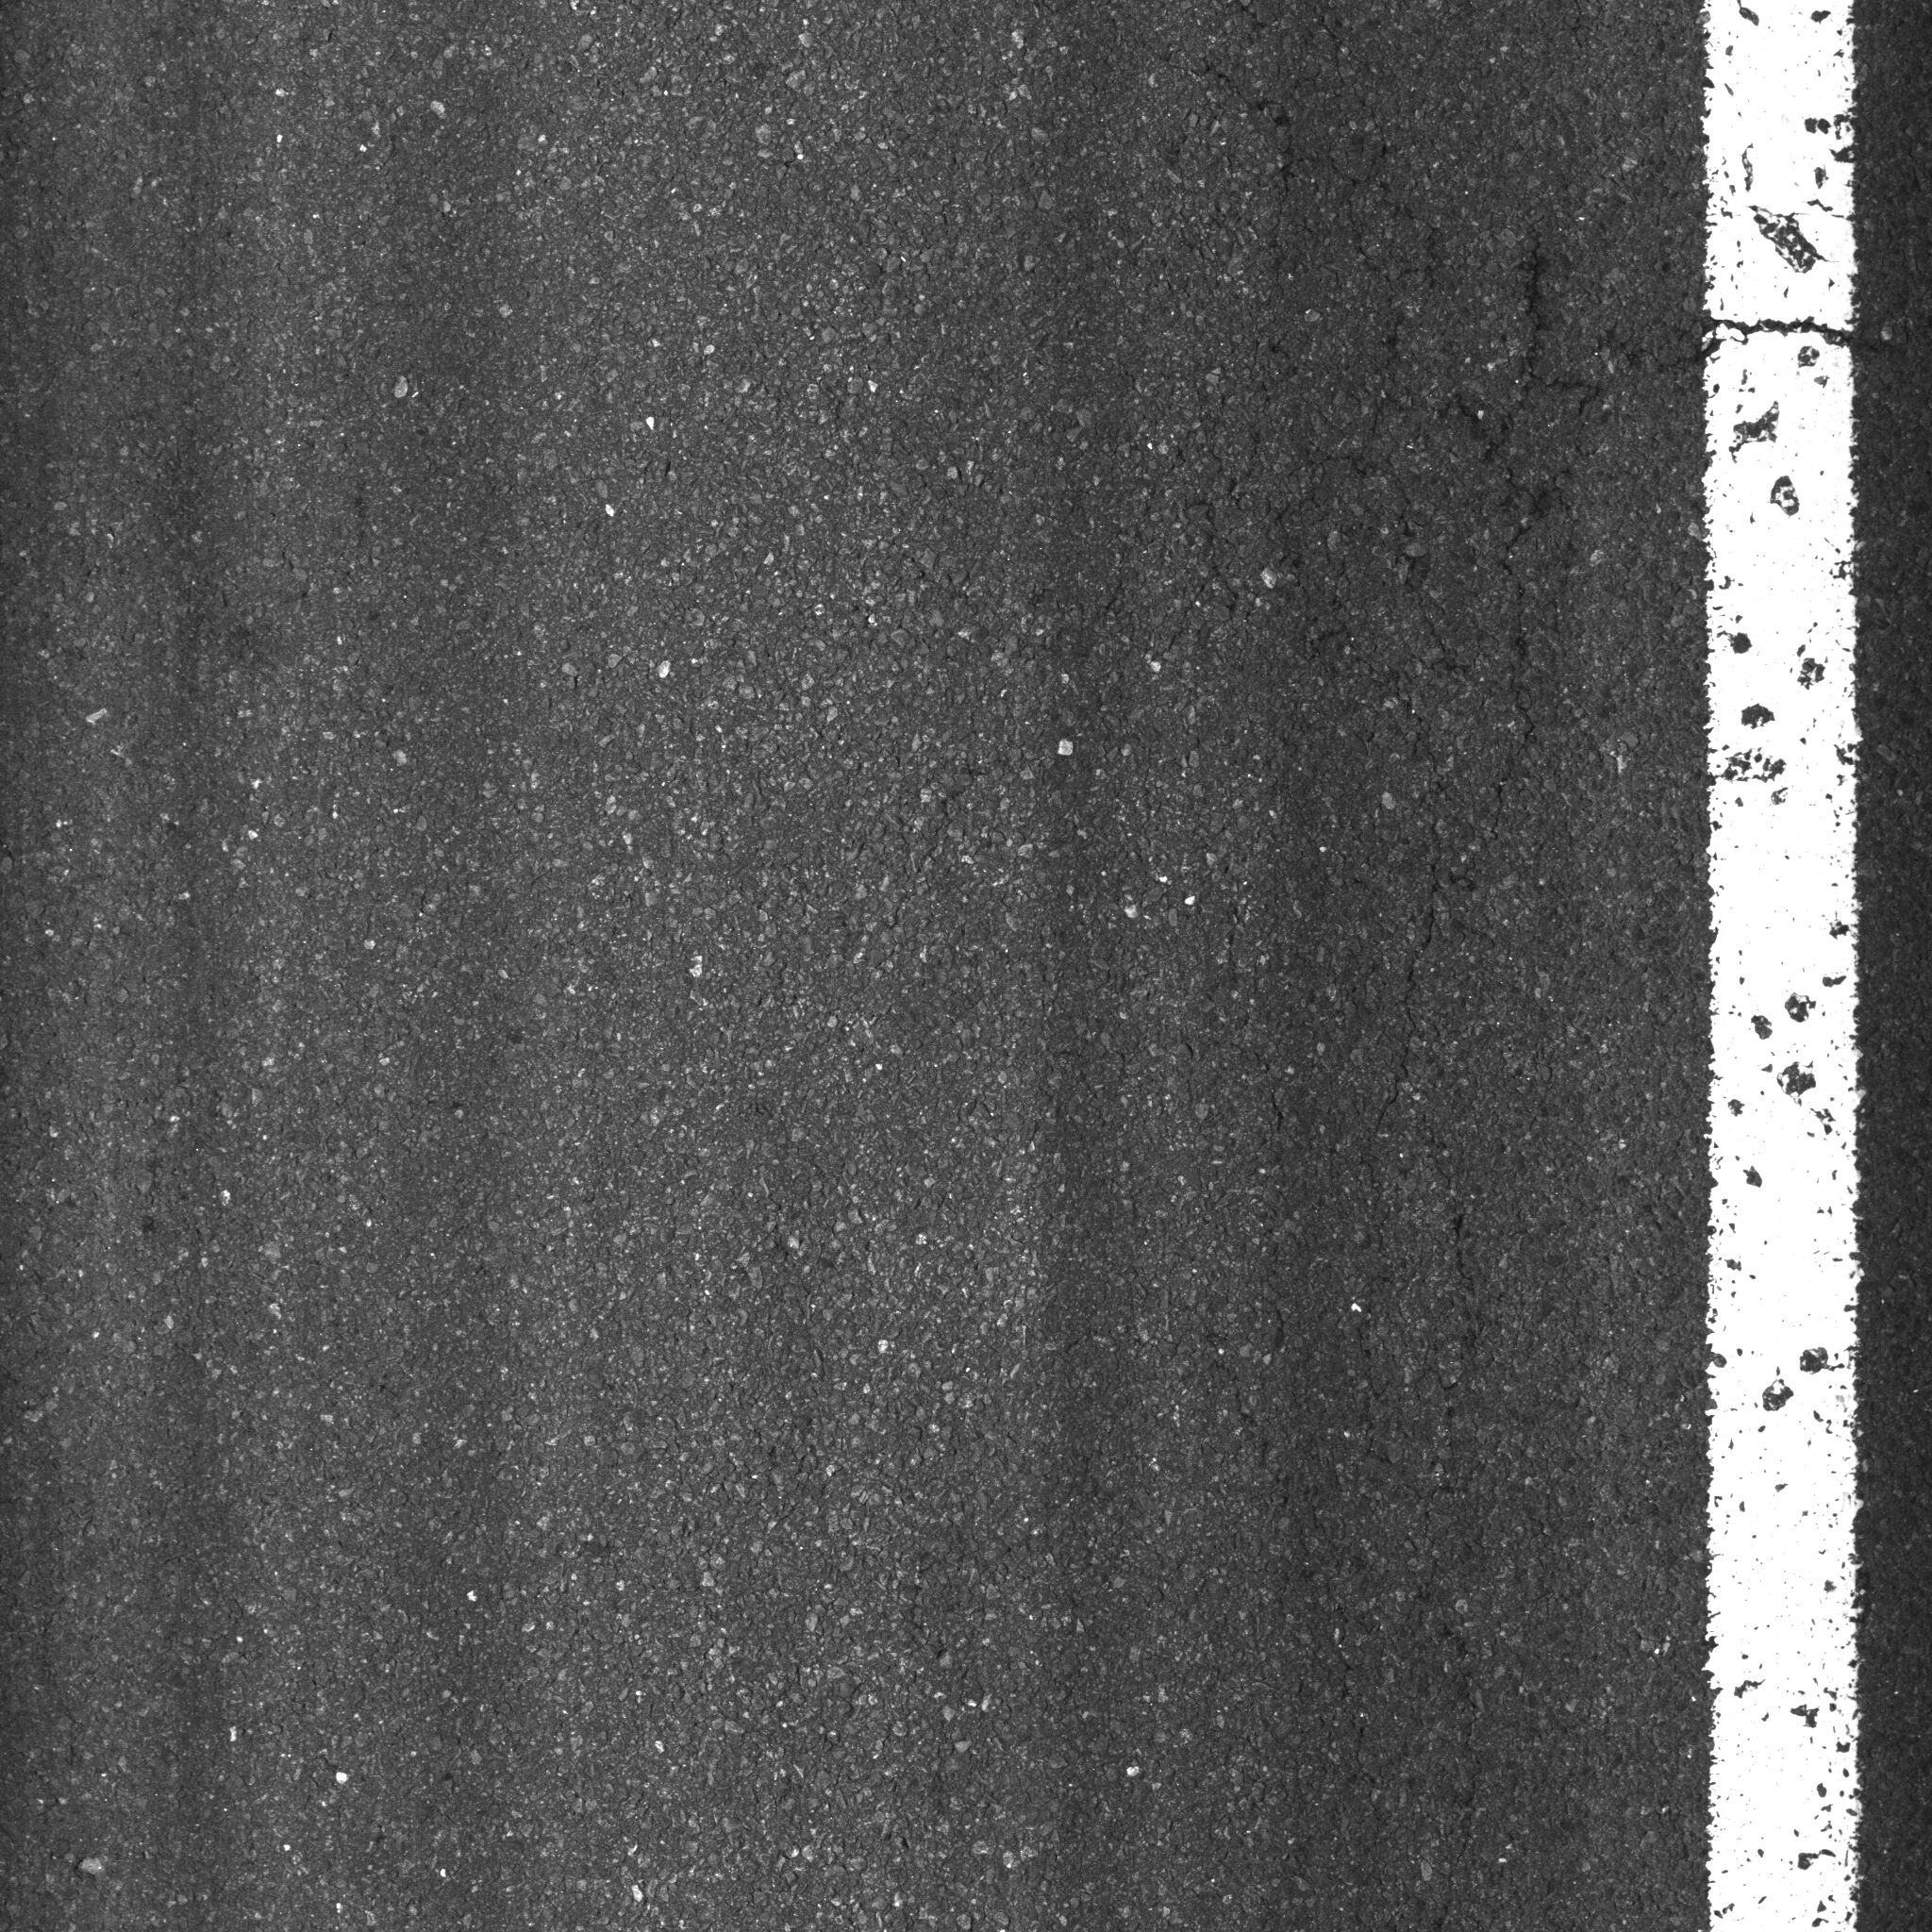alligator: (934, 69, 1932, 853)
